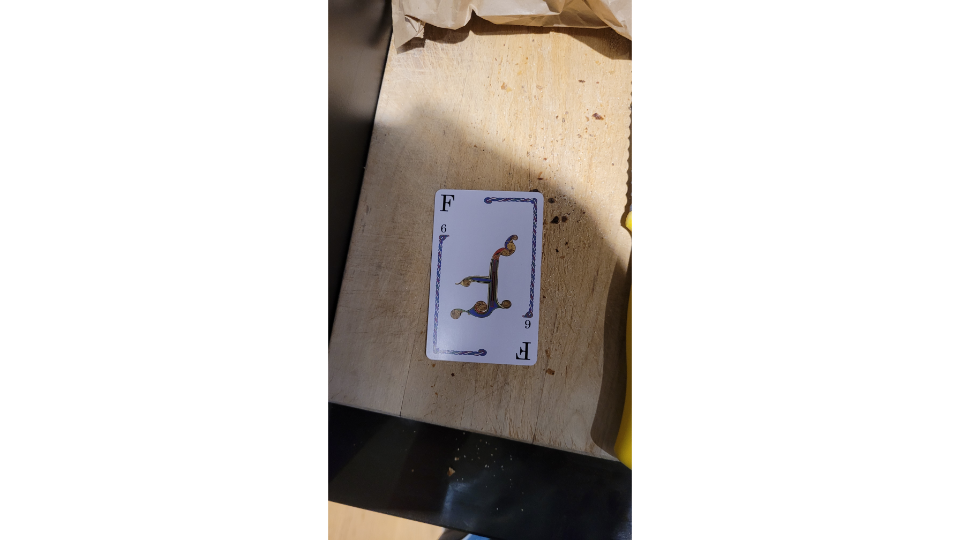F: (421, 188, 547, 371)
